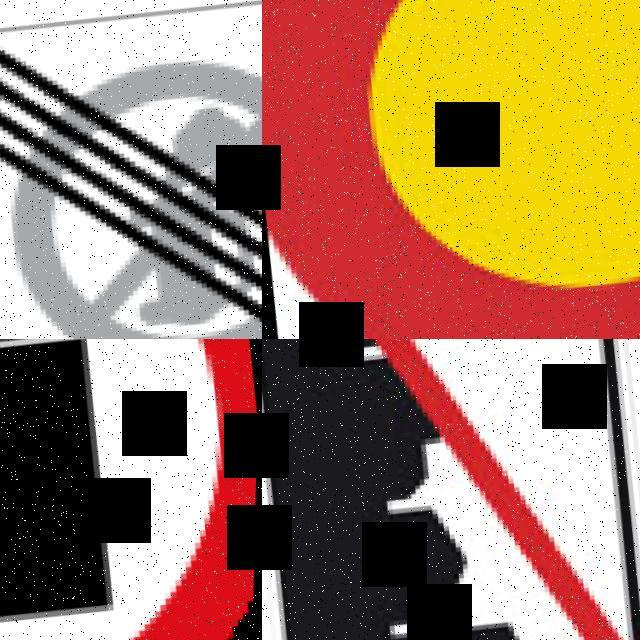110: (0, 0, 262, 339)
128: (262, 339, 640, 640)
40: (262, 0, 640, 339)
length limit-10m: (0, 339, 262, 640)
